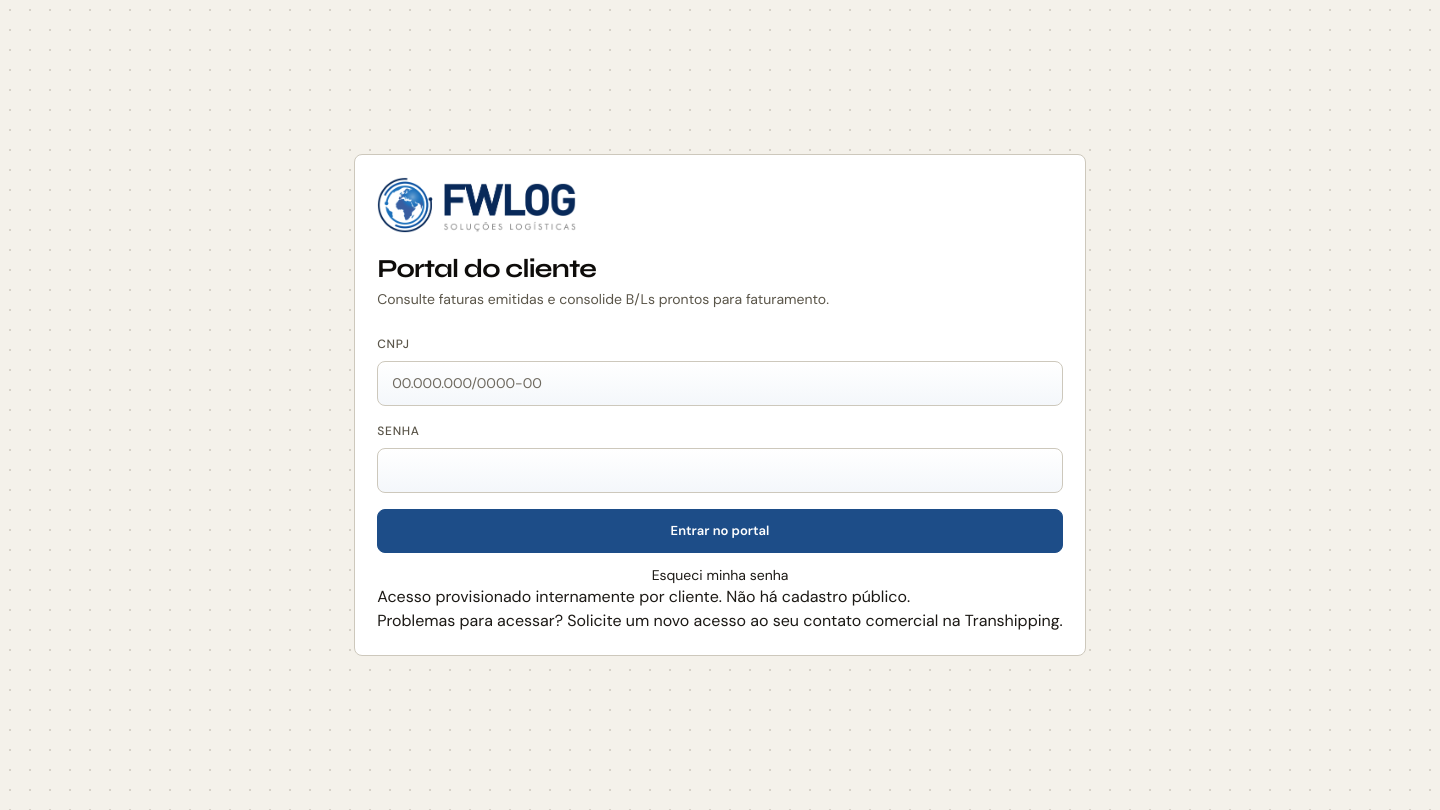
Test case: senha errada em CNPJ completo mantem a mensagem generica de credenciais
The width and height of the screenshot is (1440, 810).
Type "12.345.678/0001-95" into the field with placeholder "00.000.000/0000-00" at (720, 383), box x1=377 y1=361 x2=1063 y2=406
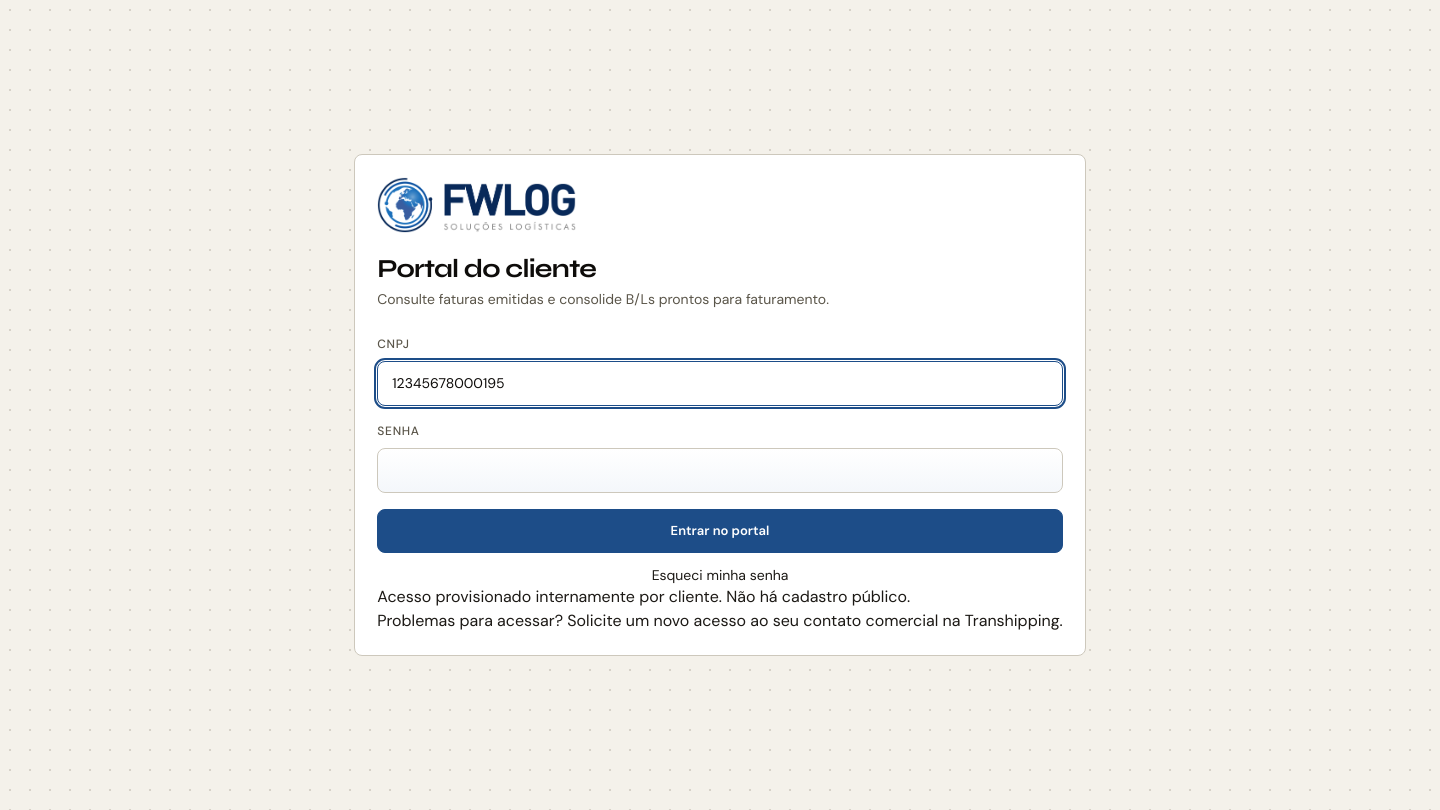
Type "senha-errada" into the password field labelled "Senha" at (720, 470), box x1=377 y1=448 x2=1063 y2=493
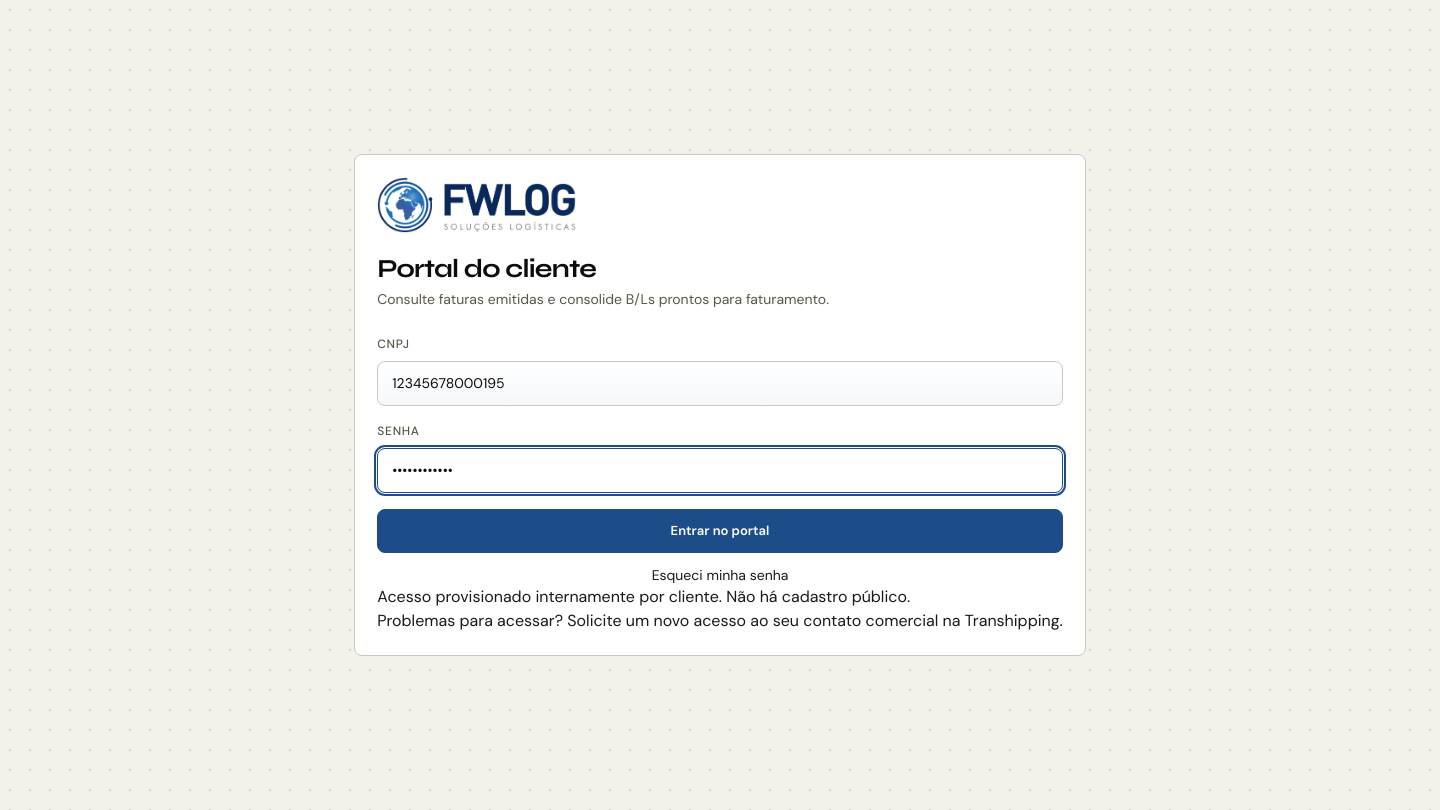
Click the button "Entrar no portal" at (720, 531), box x1=377 y1=509 x2=1063 y2=553
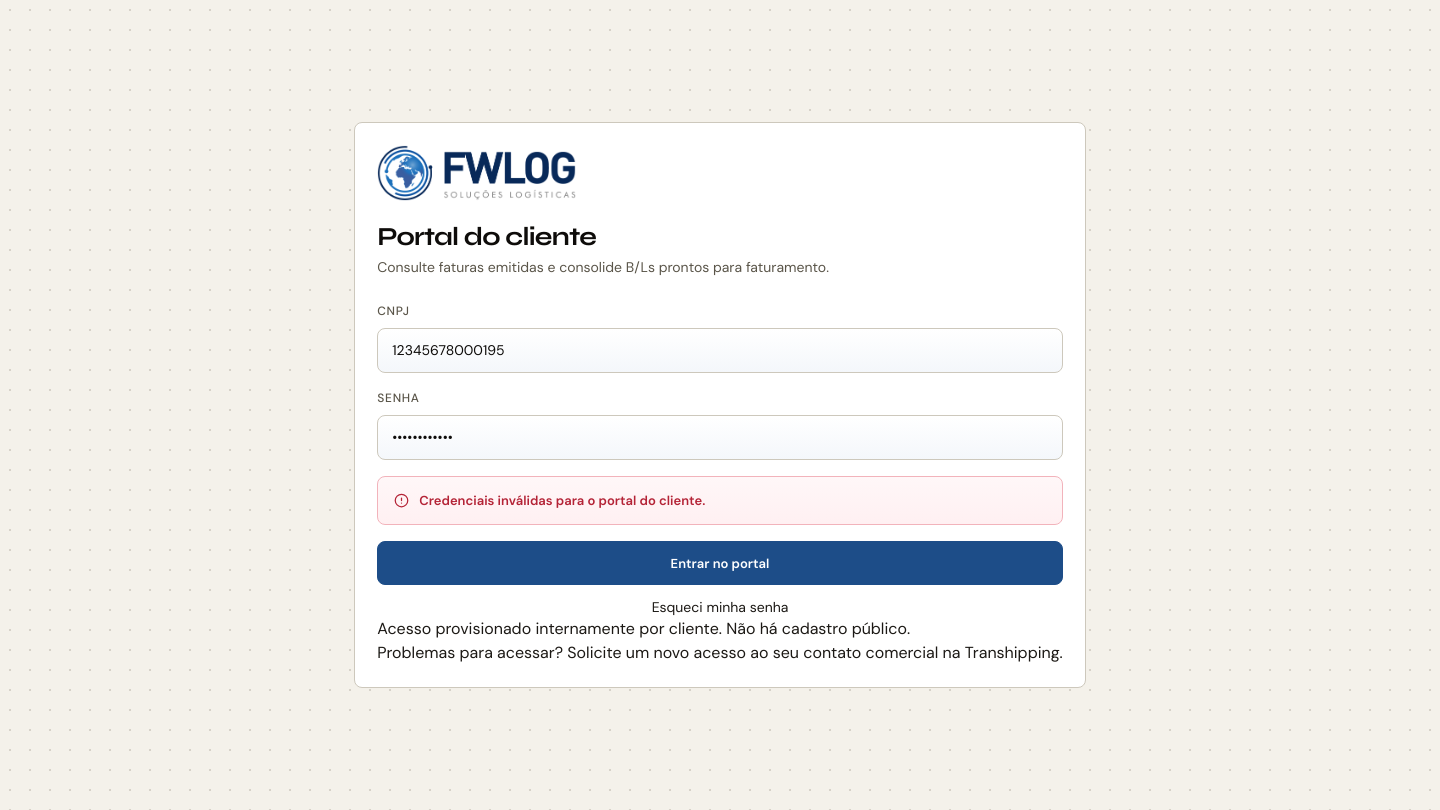
Now the text "Credenciais inválidas para o portal do cliente." is shown, box x1=377 y1=476 x2=1063 y2=525
